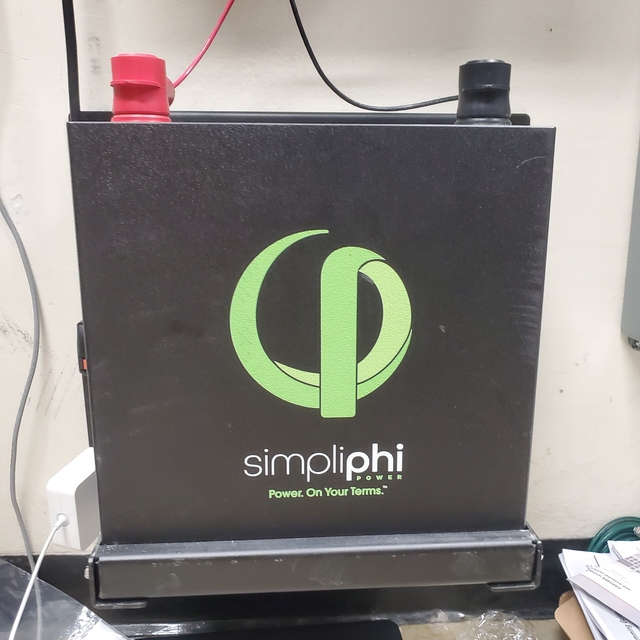battery: (55, 41, 558, 613)
